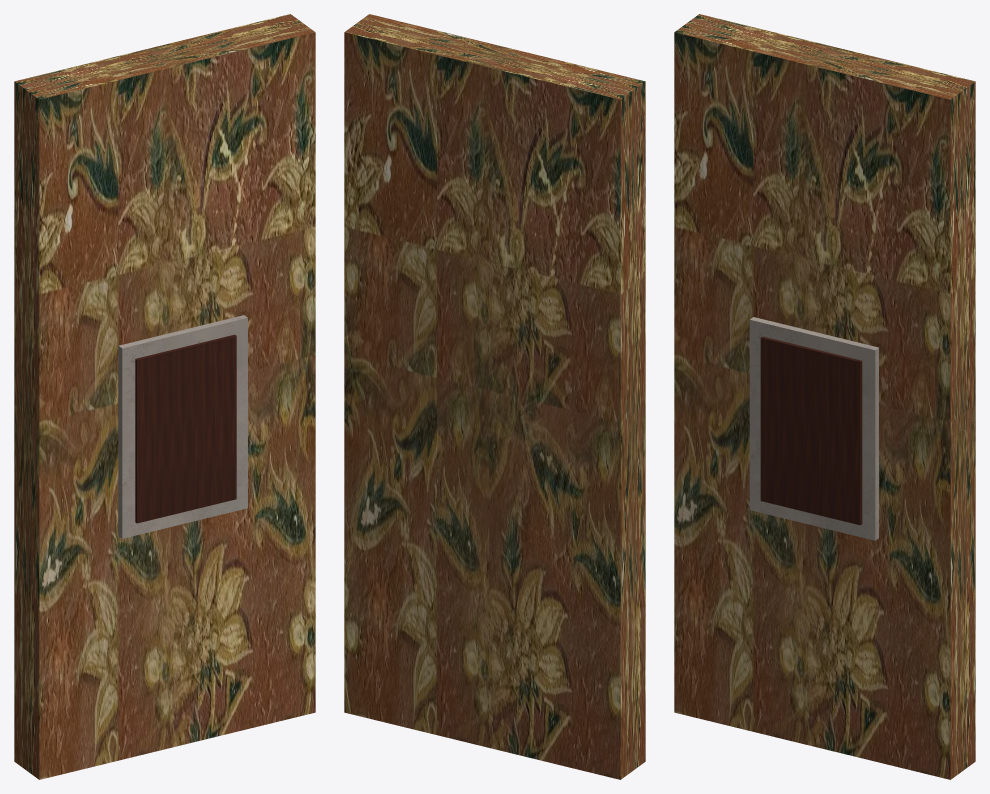
The model's file is painted-walls.glb.
The picture shows the model from 3 angles, left to right: view 1: azimuth 30°, elevation 25°; view 2: azimuth 150°, elevation 25°; view 3: azimuth 330°, elevation 25°; orthographic projection.
Parts seen in each view (by area): view 1: Zenana_corner_2_wall__INT__SIZE-UNRECORDED.012, Zenana_corner_2_niche__CONFIRMED.004, Zenana_corner_2_niche_surround__CONFIRMED.004; view 2: Zenana_corner_2_wall__INT__SIZE-UNRECORDED.012; view 3: Zenana_corner_2_wall__INT__SIZE-UNRECORDED.012, Zenana_corner_2_niche__CONFIRMED.004, Zenana_corner_2_niche_surround__CONFIRMED.004.
Part boxes in pixels (x1=…): Zenana_corner_2_wall__INT__SIZE-UNRECORDED.012: x1=14, y1=14, x2=315, y2=779; Zenana_corner_2_niche__CONFIRMED.004: x1=135, y1=334, x2=236, y2=523; Zenana_corner_2_niche_surround__CONFIRMED.004: x1=118, y1=315, x2=247, y2=538; Zenana_corner_2_wall__INT__SIZE-UNRECORDED.012: x1=344, y1=14, x2=645, y2=779; Zenana_corner_2_wall__INT__SIZE-UNRECORDED.012: x1=674, y1=14, x2=975, y2=779; Zenana_corner_2_niche__CONFIRMED.004: x1=760, y1=336, x2=862, y2=525; Zenana_corner_2_niche_surround__CONFIRMED.004: x1=749, y1=317, x2=878, y2=540.
Bounding box in the file's own units: 1.27 × 3 × 0.245.
Materials: 3 (3 with a texture image).
